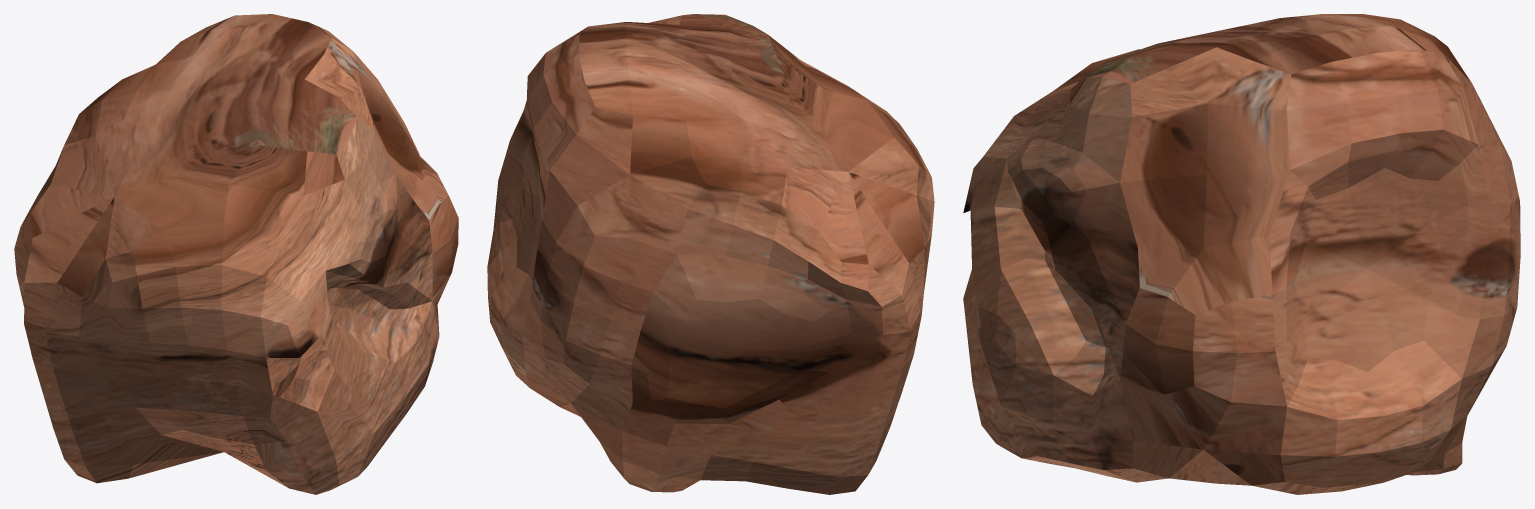
File: meteorito.fbx
The picture shows the model from 3 angles, left to right: view 1: azimuth 30°, elevation 25°; view 2: azimuth 150°, elevation 25°; view 3: azimuth 270°, elevation 25°; orthographic projection. The views are drawn at different scales.
Visible parts, largest first — view 1: Meteoritos1.007; view 2: Meteoritos1.007; view 3: Meteoritos1.007.
Part boxes in pixels (x1=…): Meteoritos1.007: x1=14, y1=14, x2=458, y2=494; Meteoritos1.007: x1=487, y1=14, x2=934, y2=494; Meteoritos1.007: x1=963, y1=14, x2=1520, y2=494.
Bounding box in the file's own units: 34.62 × 32.21 × 32.59.
